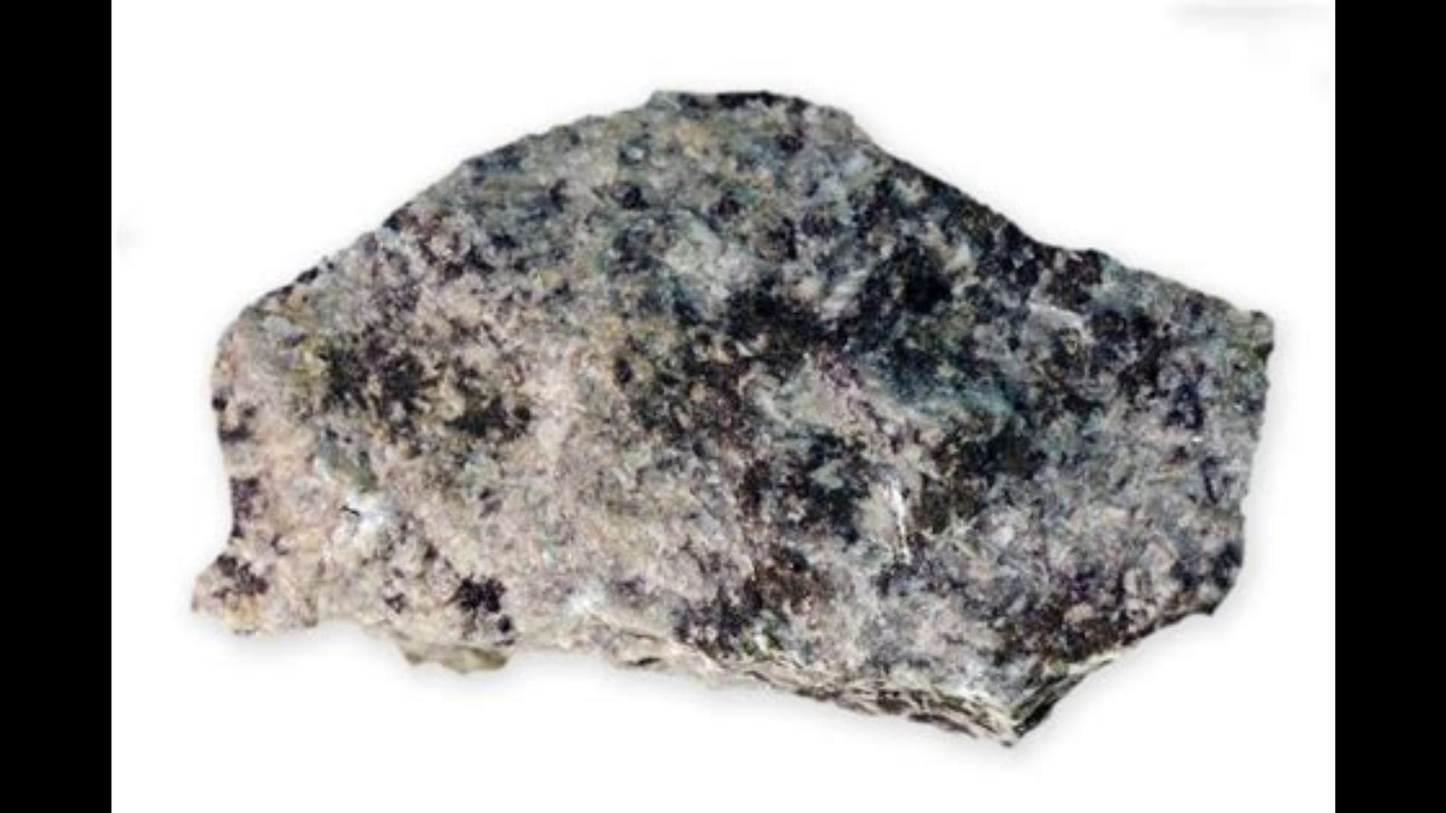rock: (193, 93, 1270, 736)
